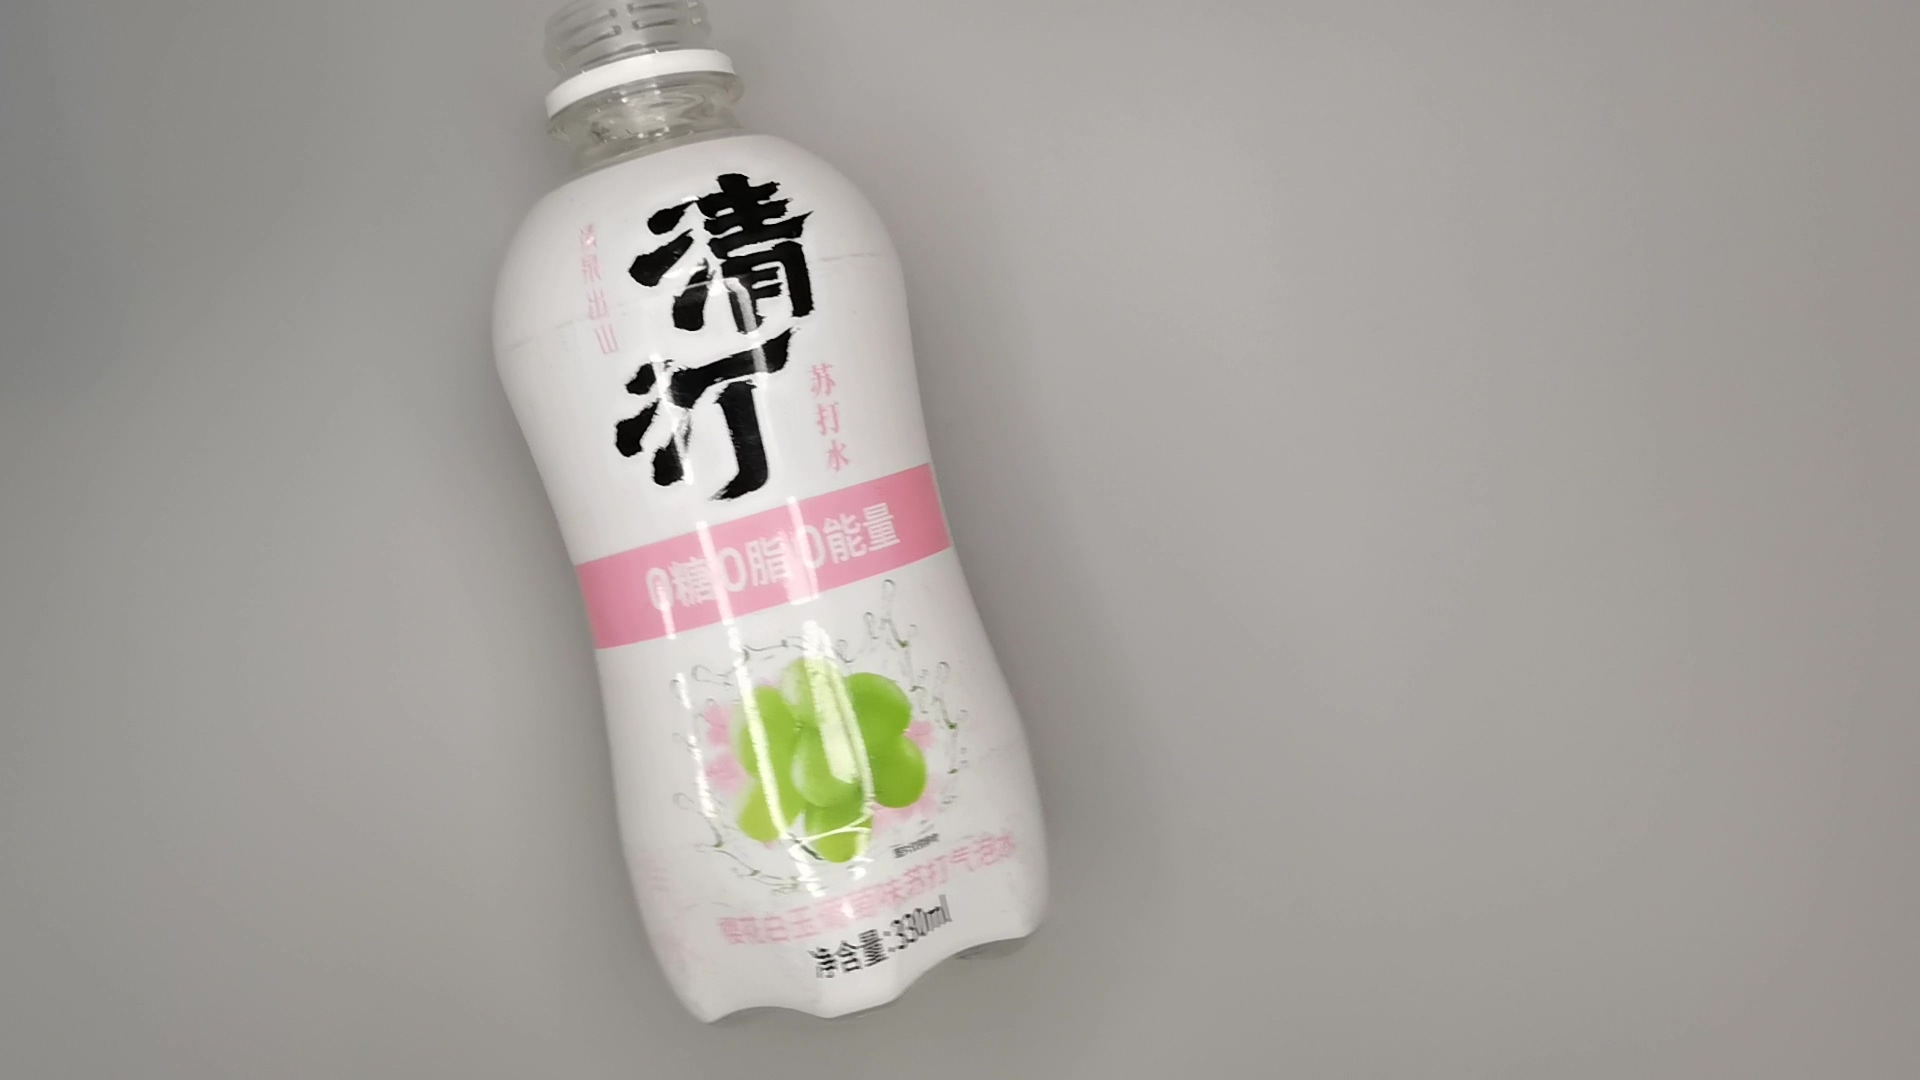bottle: (480, 1, 1062, 1039)
